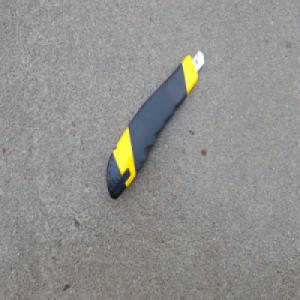Cutter: (104, 46, 205, 200)
